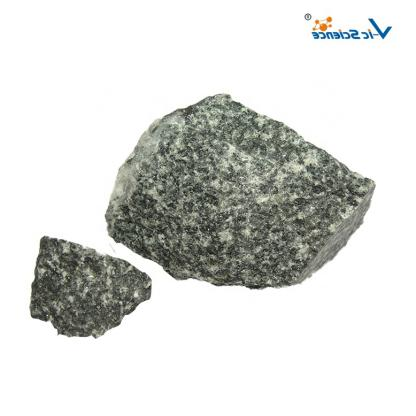Igneous_Diorite: (94, 85, 380, 290), (22, 230, 158, 348)
